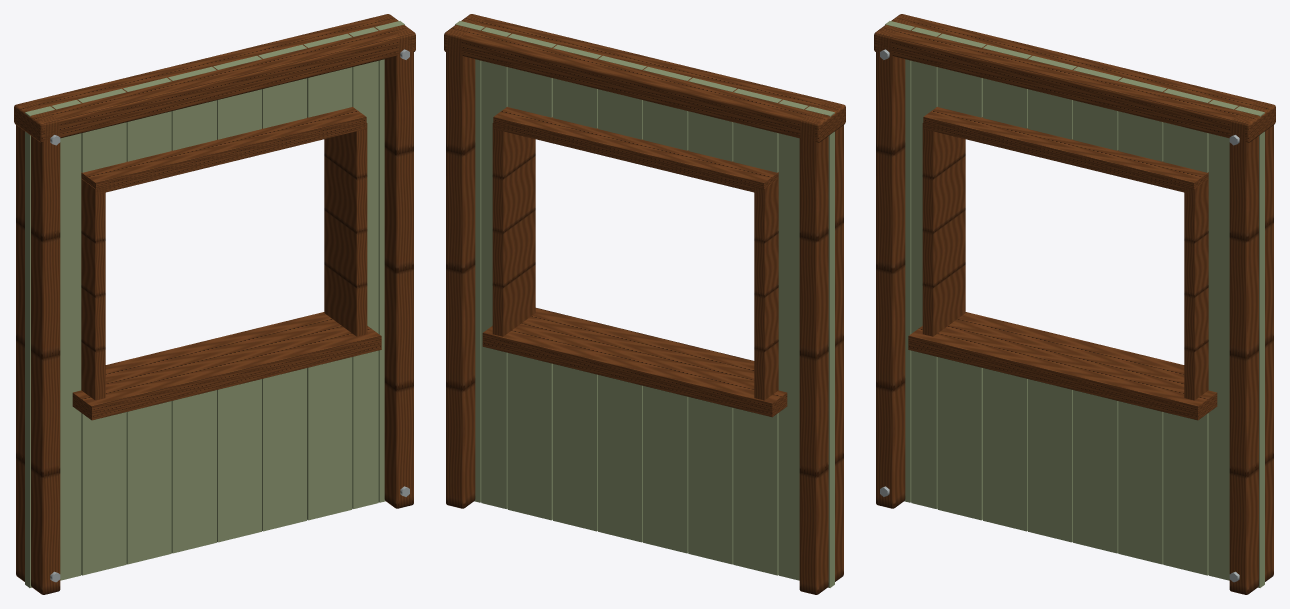
The model's file is prehistoric-survivor-settlement-hide-serving-wall-6850a0f6__23159.glb.
3 renders of one model, left to right at view 1: azimuth 30°, elevation 25°; view 2: azimuth 150°, elevation 25°; view 3: azimuth 330°, elevation 25°, orthographic.
Parts seen in each view (by area): view 1: hide-serving-wall; view 2: hide-serving-wall; view 3: hide-serving-wall.
Part boxes in pixels (box(x1,y1,x2,y2)): hide-serving-wall: box(14, 14, 415, 594); hide-serving-wall: box(444, 14, 845, 594); hide-serving-wall: box(874, 14, 1275, 594).
Bounding box in the file's own units: 2 × 2.4 × 0.3601.
3 materials, 1 textured.
